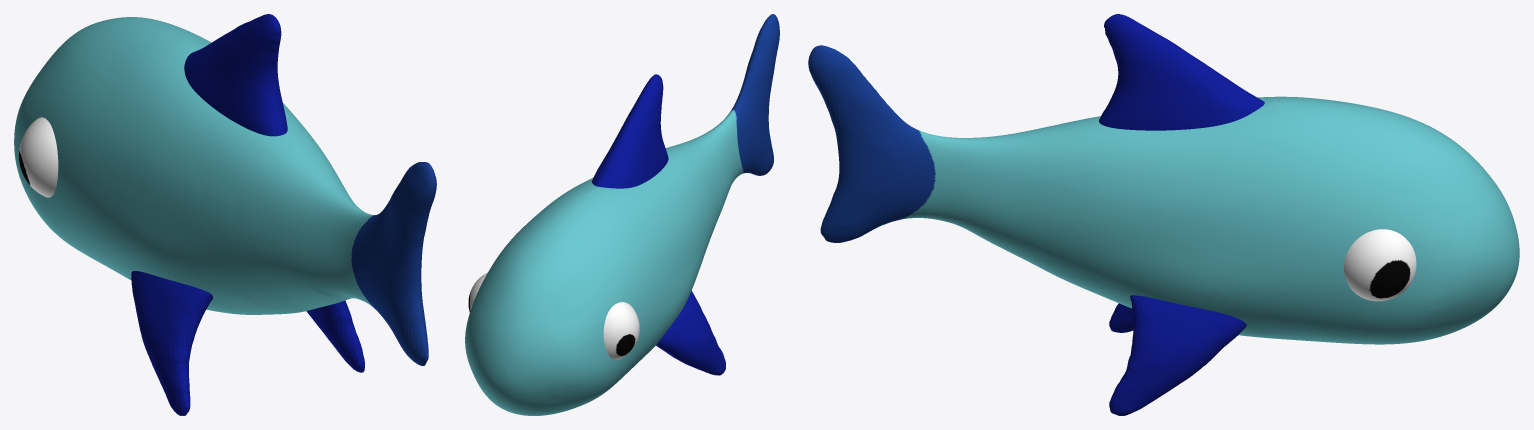
Rendered from petfish.fbx.
The picture shows the model from 3 angles, left to right: view 1: azimuth 30°, elevation 25°; view 2: azimuth 150°, elevation 25°; view 3: azimuth 270°, elevation 25°; orthographic projection. The views are drawn at different scales.
Visible parts, largest first — view 1: body, fin, top fin, eyes; view 2: body, top fin, fin, eyes; view 3: body, top fin, fin, eyes.
Boxes of the visible parts, box(x1,y1,x2,y2) form: body: box(14, 17, 436, 365); fin: box(131, 271, 364, 415); top fin: box(184, 14, 287, 136); eyes: box(19, 117, 58, 197); body: box(465, 14, 779, 415); top fin: box(591, 74, 668, 188); fin: box(656, 290, 725, 375); eyes: box(468, 272, 639, 359); body: box(808, 45, 1519, 344); top fin: box(1099, 14, 1264, 130); fin: box(1109, 295, 1246, 415); eyes: box(1344, 229, 1416, 301).
Bounding box in the file's own units: 155 × 258 × 462.
3 materials, 3 textured.
